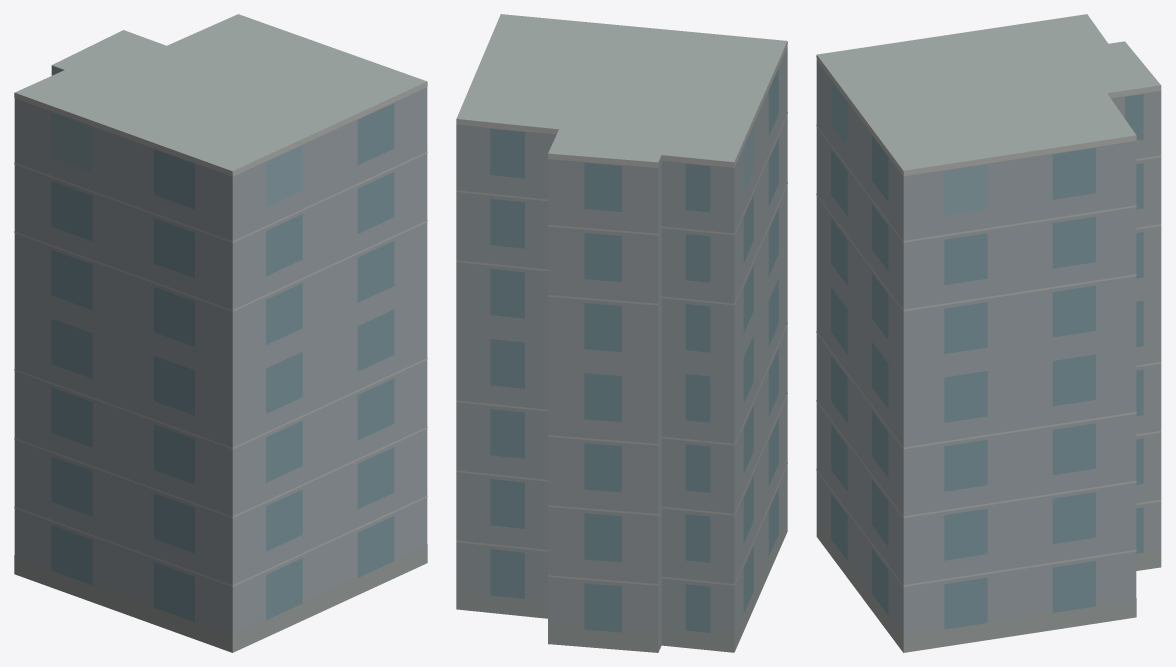
File: survey-upis-32567522.glb
3 renders of one model, left to right at view 1: azimuth 30°, elevation 25°; view 2: azimuth 150°, elevation 25°; view 3: azimuth 270°, elevation 25°, orthographic.
Visible parts, largest first — view 1: survey-upis-32567522.tmp; view 2: survey-upis-32567522.tmp; view 3: survey-upis-32567522.tmp.
Boxes of the visible parts, x1,y1,x2,y2 form: survey-upis-32567522.tmp: (14, 14, 427, 652); survey-upis-32567522.tmp: (456, 14, 787, 652); survey-upis-32567522.tmp: (816, 14, 1161, 652).
Bounding box in the file's own units: 14.89 × 21.3 × 13.83.
